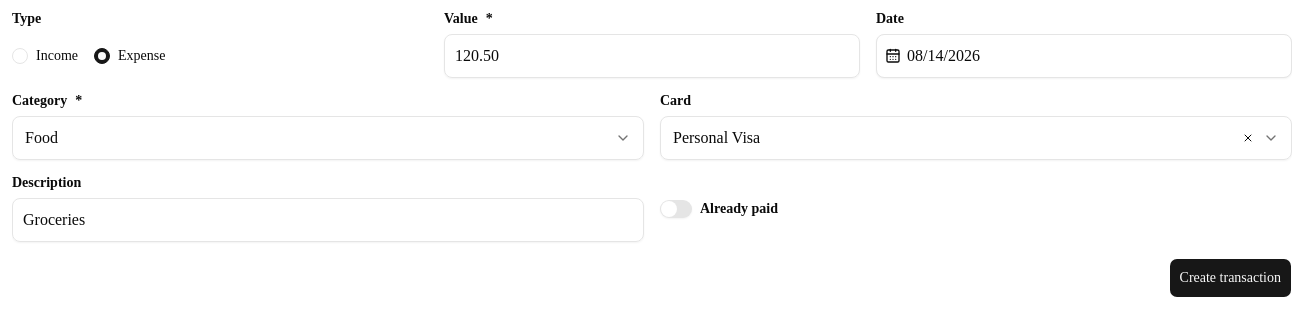
Test case: TransactionForm › hides the card field when Income is chosen
Click the radio button named "Income" next to "Income" at [20, 56], box [12,48,28,64]
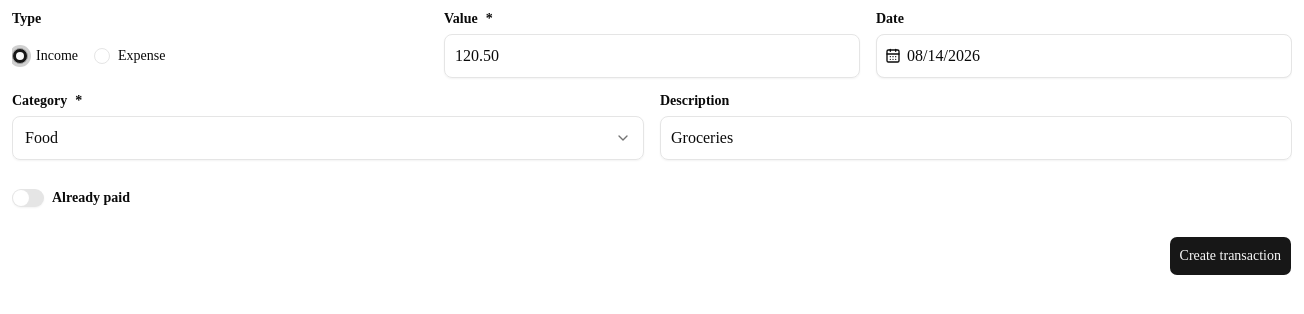
Now the label labelled "Card" is gone
